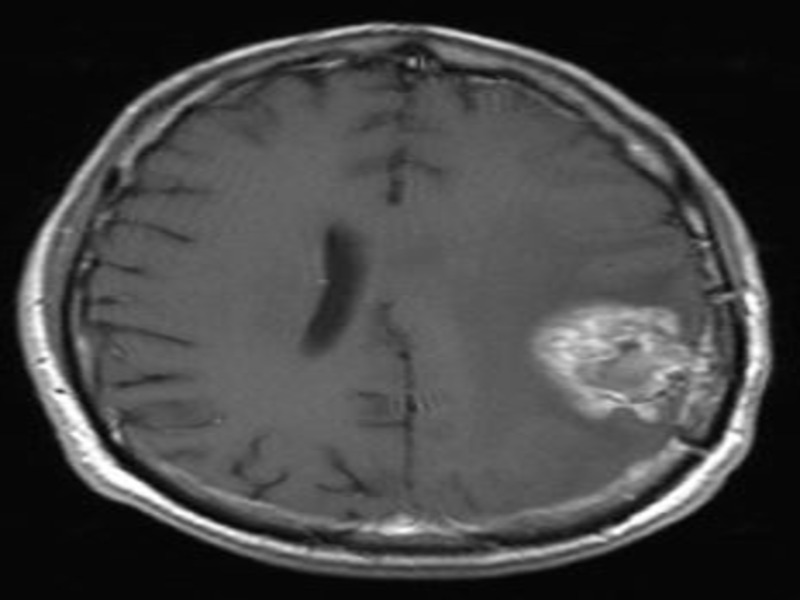tumor: (537, 285, 689, 427)
